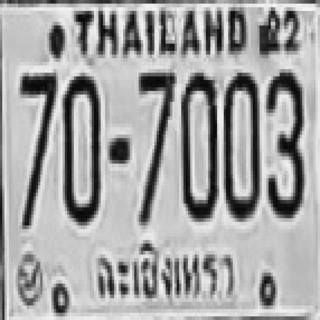N00: (62, 73, 100, 222), (179, 69, 217, 218), (222, 69, 257, 218)
N03: (264, 69, 302, 215)
N07: (18, 69, 56, 225), (136, 69, 174, 222), (18, 69, 56, 182)
P07: (93, 237, 237, 306)
